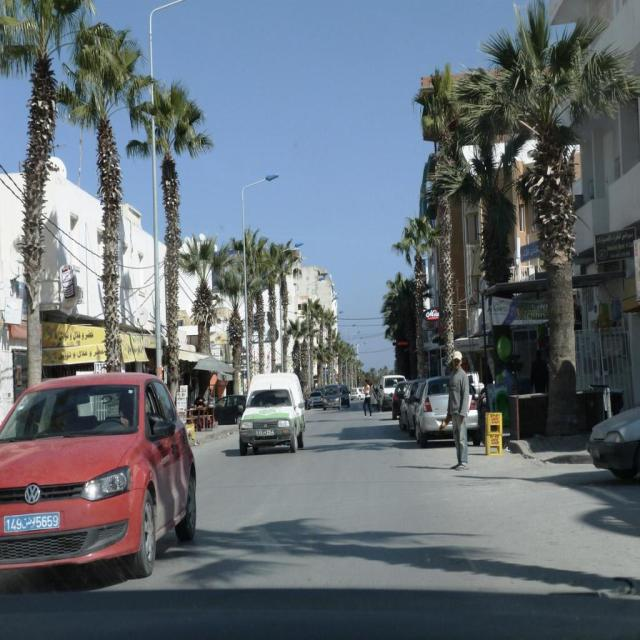car: (233, 369, 305, 449)
